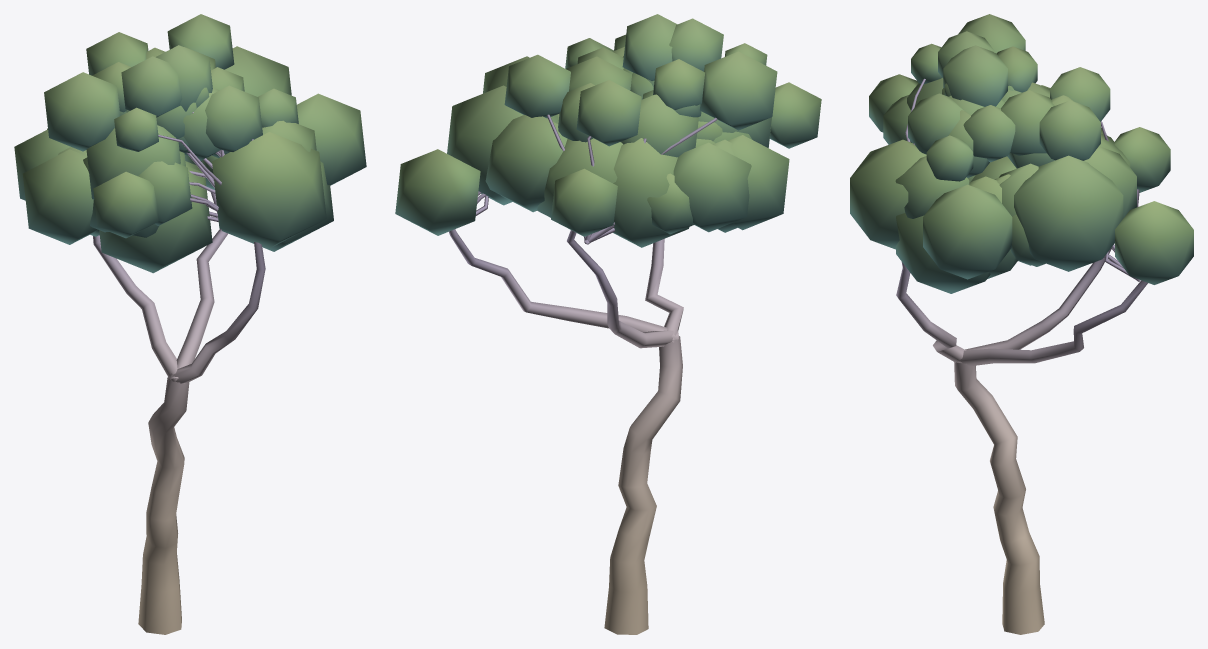
The model's file is seed_tree_d.glb.
3 renders of one model, left to right at view 1: azimuth 30°, elevation 25°; view 2: azimuth 150°, elevation 25°; view 3: azimuth 270°, elevation 25°, orthographic. The views are drawn at different scales.
Visible parts, largest first — view 1: seed_tree_d_LOD0; view 2: seed_tree_d_LOD0; view 3: seed_tree_d_LOD0.
Part boxes in pixels (x1,y1,x2,y2): seed_tree_d_LOD0: [14, 14, 366, 634]; seed_tree_d_LOD0: [395, 14, 821, 634]; seed_tree_d_LOD0: [850, 14, 1193, 634].
Size of what is drawn, in the model's own units: 7.1 by 12.9 by 6.95.
